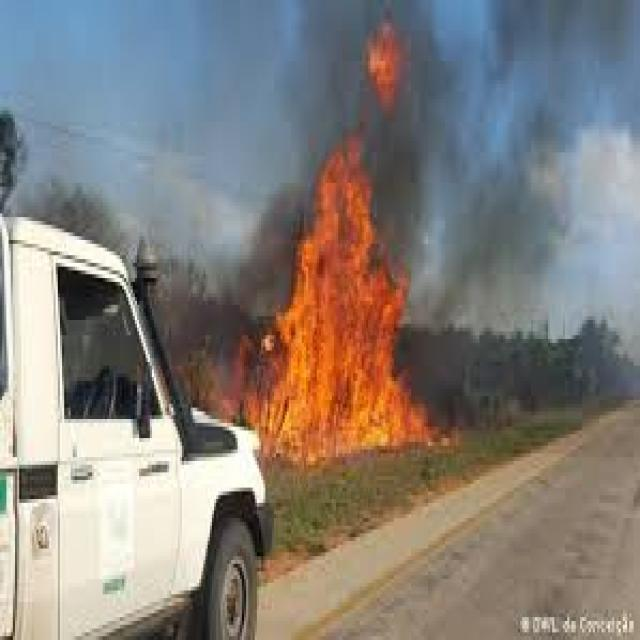Fire: (271, 0, 467, 462), (288, 125, 412, 440), (360, 13, 416, 107)
Smoke: (263, 0, 640, 300), (280, 0, 460, 301)
